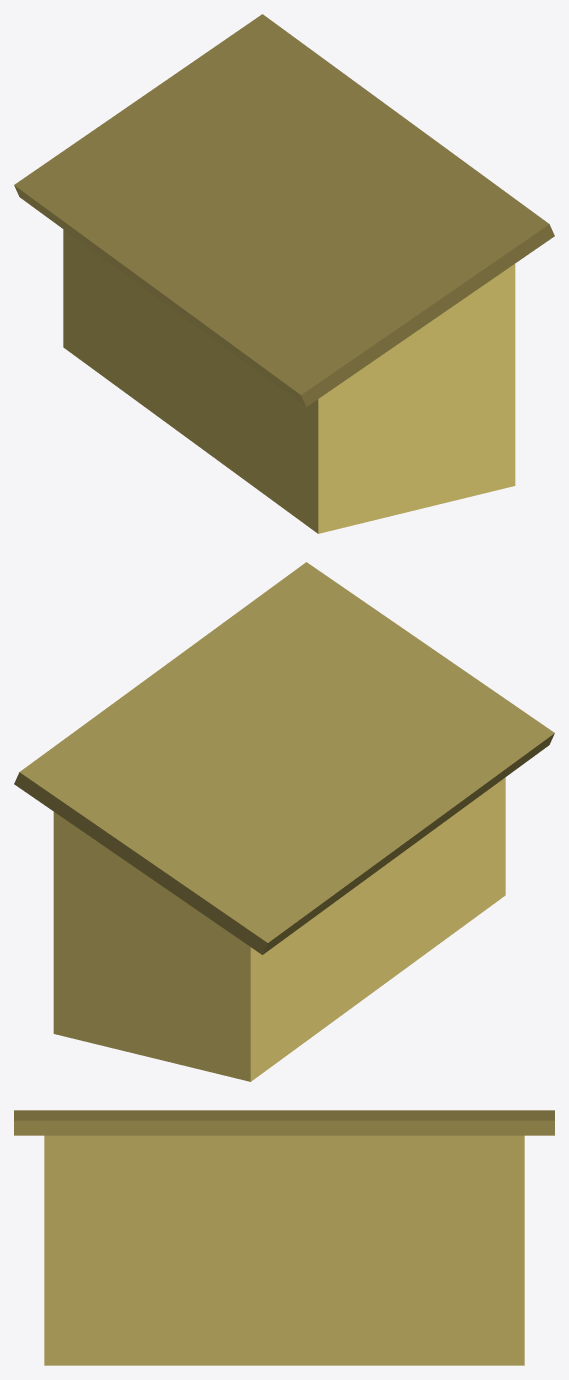
File: result.glb
The picture shows the model from 3 angles, top to bottom: view 1: azimuth 30°, elevation 25°; view 2: azimuth 150°, elevation 25°; view 3: azimuth 270°, elevation 25°; orthographic projection. The views are drawn at different scales.
Parts seen in each view (by area): view 1: 198c202d-b534-49e4-8cd2-7586ece98213__undefined, 8168516b-6aab-4cfe-9b19-61fca07c552d__undefined; view 2: 198c202d-b534-49e4-8cd2-7586ece98213__undefined, 8168516b-6aab-4cfe-9b19-61fca07c552d__undefined; view 3: 8168516b-6aab-4cfe-9b19-61fca07c552d__undefined, 198c202d-b534-49e4-8cd2-7586ece98213__undefined.
Boxes of the visible parts, x1,y1,x2,y2 form: 198c202d-b534-49e4-8cd2-7586ece98213__undefined: (14,14,554,406); 8168516b-6aab-4cfe-9b19-61fca07c552d__undefined: (63,229,515,533); 198c202d-b534-49e4-8cd2-7586ece98213__undefined: (14,562,554,954); 8168516b-6aab-4cfe-9b19-61fca07c552d__undefined: (53,777,505,1081); 8168516b-6aab-4cfe-9b19-61fca07c552d__undefined: (44,1135,524,1365); 198c202d-b534-49e4-8cd2-7586ece98213__undefined: (14,1110,554,1135).
Bounding box in the file's own units: 457 × 463 × 895.
